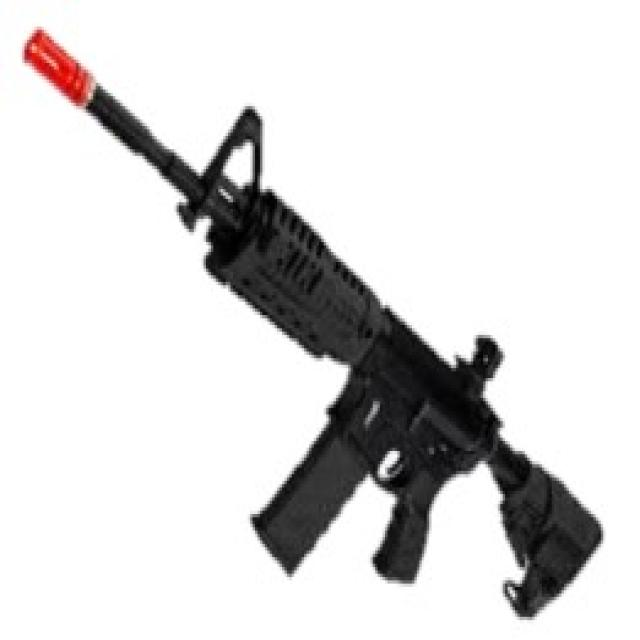rifle: (15, 2, 615, 623)
